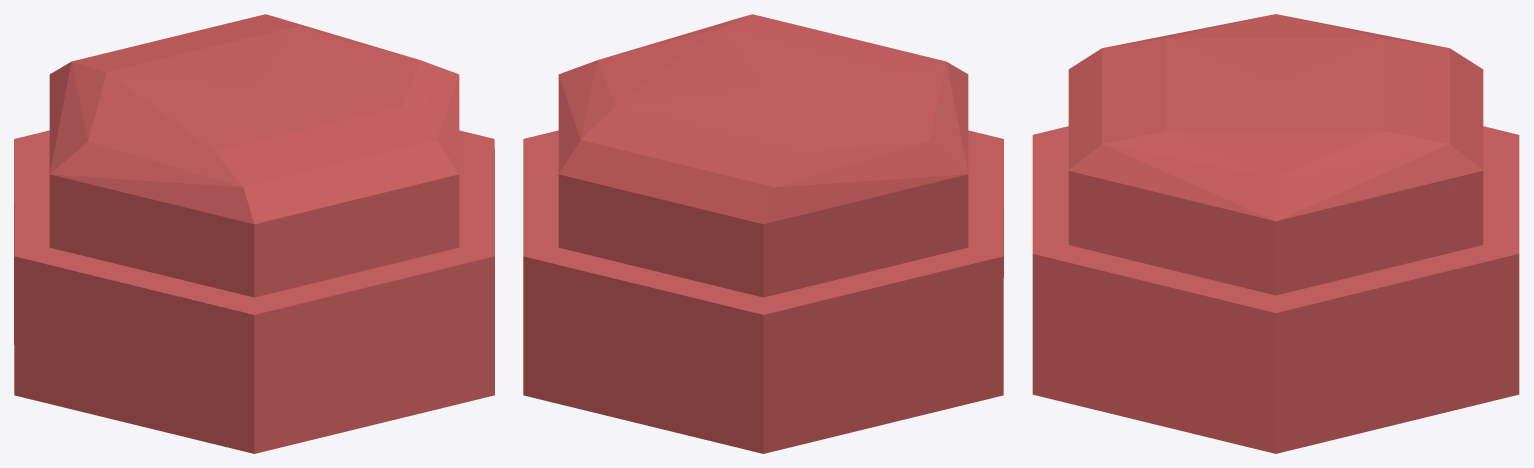
Rendered from hatena_switch_end.glb.
3 views of the same model, side by side, from view 1: azimuth 30°, elevation 25°; view 2: azimuth 150°, elevation 25°; view 3: azimuth 270°, elevation 25° (orthographic).
Visible parts, largest first — view 1: hatena_switch_end_col; view 2: hatena_switch_end_col; view 3: hatena_switch_end_col.
Boxes of the visible parts, x1,y1,x2,y2 form: hatena_switch_end_col: [14, 14, 494, 453]; hatena_switch_end_col: [523, 14, 1003, 453]; hatena_switch_end_col: [1032, 14, 1519, 453].
Size of the model in its own units: 2.53 by 1.27 by 2.19.
